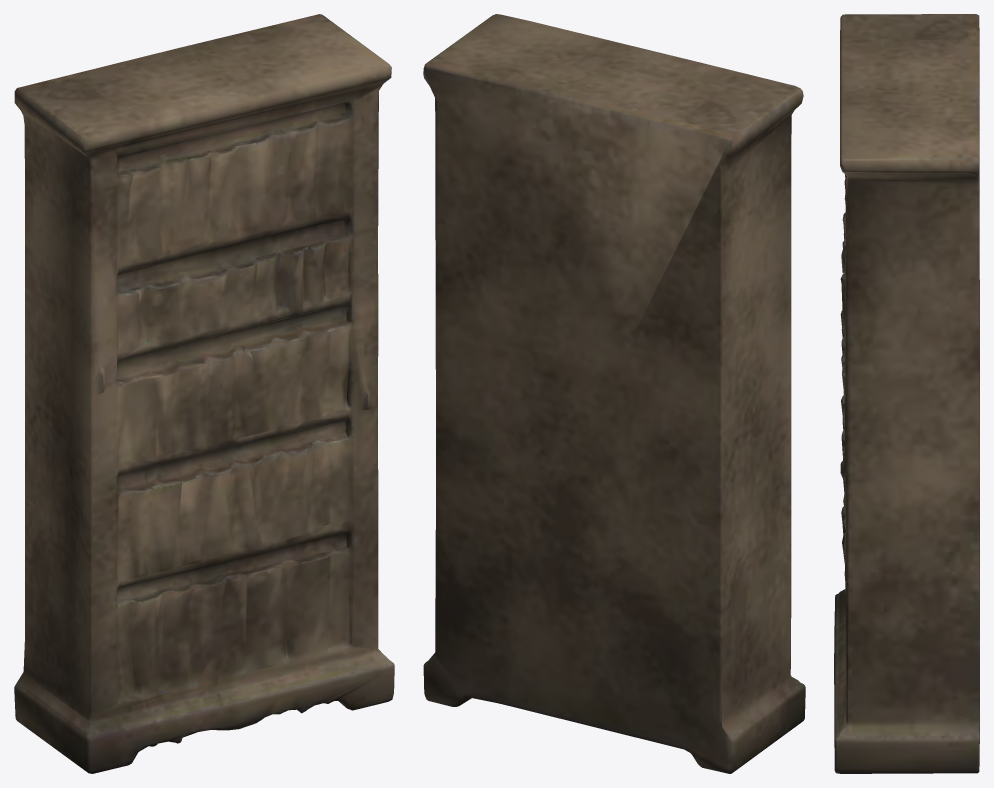
File: worn-wood-bookcase-v001.glb
3 renders of one model, left to right at view 1: azimuth 30°, elevation 25°; view 2: azimuth 150°, elevation 25°; view 3: azimuth 270°, elevation 25°, orthographic. The views are drawn at different scales.
Parts seen in each view (by area): view 1: worn-wood-bookcase; view 2: worn-wood-bookcase; view 3: worn-wood-bookcase.
Part boxes in pixels (bbox=[...]): worn-wood-bookcase: bbox=[14, 14, 394, 773]; worn-wood-bookcase: bbox=[423, 14, 805, 773]; worn-wood-bookcase: bbox=[834, 14, 979, 773].
Size of the model in its own units: 1.12 by 2.2 by 0.4701.
1 material, 1 textured.
